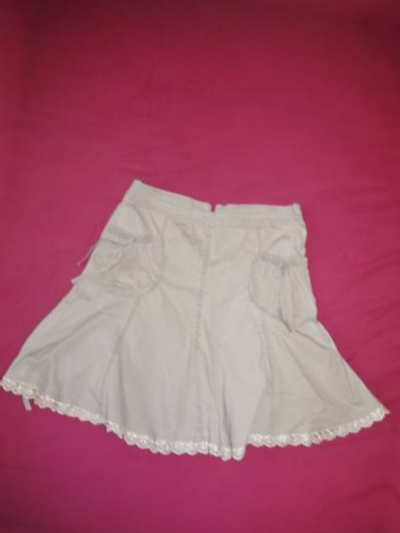Dress: (0, 93, 400, 514), (381, 159, 400, 533), (0, 20, 6, 441)
